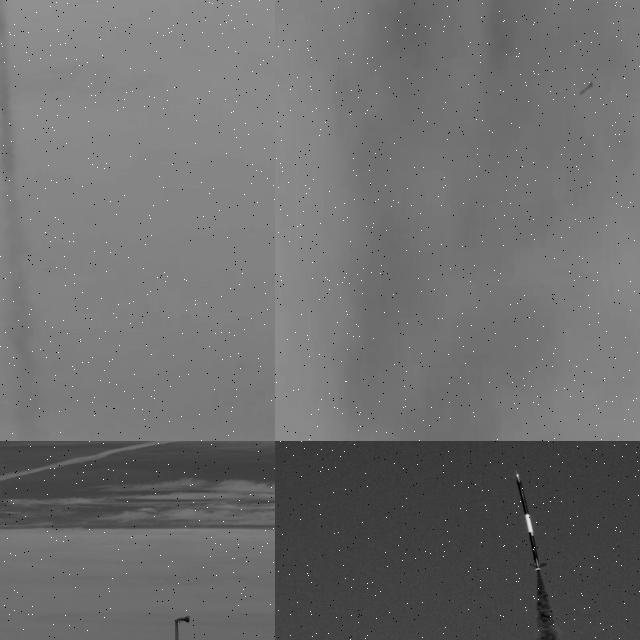Rocket: (513, 469, 547, 572), (580, 81, 594, 95)
